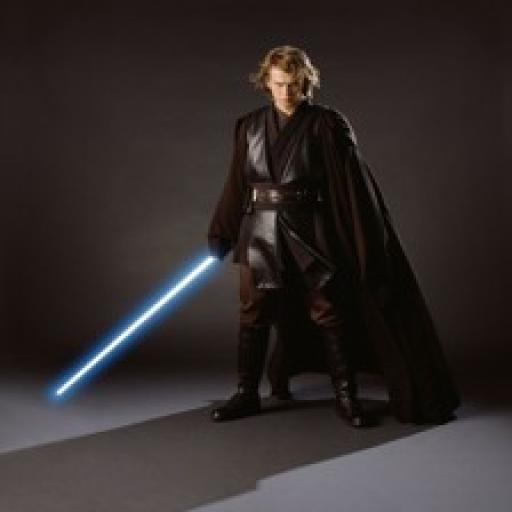human: (204, 40, 465, 437)
lightsaber: (53, 224, 241, 402)
